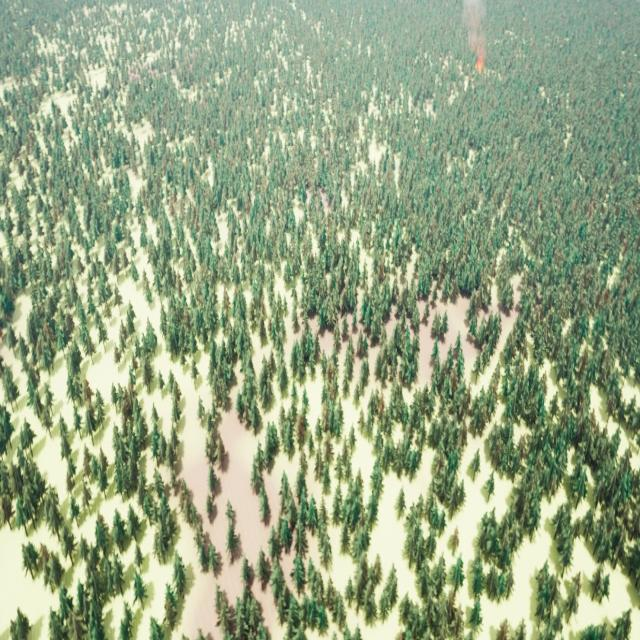fire: (474, 51, 486, 70)
smoke: (462, 0, 492, 52)
